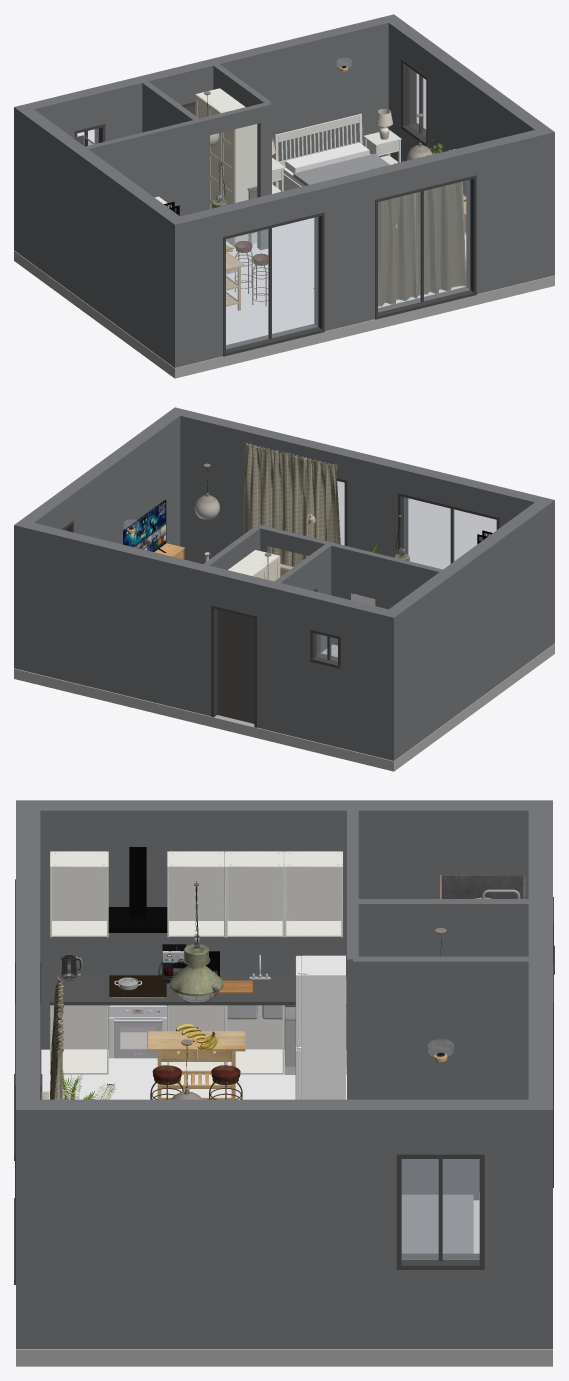
The model's file is loft35_dark_furnished.glb.
3 renders of one model, top to bottom at view 1: azimuth 30°, elevation 25°; view 2: azimuth 150°, elevation 25°; view 3: azimuth 270°, elevation 25°, orthographic. The views are drawn at different scales.
Visible parts, largest first — view 1: Ext_W, Ext_N.005, Ext_S.004, Frame.010, Frame.004, haggveckmal_zasony_zacieniajace_1_para_20569029.34, Ext_S, Ext_S.002, y32, Floor_Studio, Ext_E, Slab (+27 smaller); view 2: Ext_N.005, Ext_W, Ext_E, Ext_N, Ext_S.004, Ext_N.003, haggveckmal_zasony_zacieniajace_1_para_20569029.34, Slab, Ext_S.002, y32, Frame.004, EntranceDoor (+16 smaller); view 3: Ext_E, Ext_W, x36, Ext_E.003, Ext_N.005, Slab, Ext_S.004, Frame.025, fridge.18, Ext_E.001, Floor_Studio, kitchen_wall_cabinet.08 (+34 smaller).
Part boxes in pixels (x1,y1,x2,y2): Ext_W: [21, 109, 179, 362]; Ext_N.005: [196, 14, 400, 190]; Ext_S.004: [469, 127, 554, 294]; Frame.010: [378, 180, 470, 312]; Frame.004: [226, 217, 318, 348]; haggveckmal_zasony_zacieniajace_1_para_20569029.34: [370, 149, 466, 306]; Ext_S: [167, 207, 222, 367]; Ext_S.002: [317, 170, 374, 331]; y32: [85, 117, 209, 216]; Floor_Studio: [226, 234, 466, 344]; Ext_E: [428, 48, 547, 152]; Slab: [14, 250, 554, 378]; Ext_N.005: [14, 520, 218, 716]; Ext_W: [389, 502, 547, 755]; Ext_E: [61, 412, 180, 546]; Ext_N: [341, 599, 401, 760]; Ext_S.004: [168, 407, 252, 562]; Ext_N.003: [257, 579, 317, 740]; haggveckmal_zasony_zacieniajace_1_para_20569029.34: [243, 442, 340, 566]; Slab: [14, 643, 554, 771]; Ext_S.002: [347, 451, 404, 557]; y32: [318, 540, 442, 645]; Frame.004: [404, 497, 496, 569]; EntranceDoor: [217, 609, 254, 723]; Ext_E: [40, 1099, 396, 1348]; Ext_W: [40, 800, 528, 1049]; x36: [353, 956, 528, 1200]; Ext_E.003: [484, 1099, 528, 1348]; Ext_N.005: [528, 949, 552, 1348]; Slab: [16, 1349, 552, 1366]; Ext_S.004: [16, 1046, 40, 1348]; Frame.025: [402, 1159, 479, 1259]; fridge.18: [295, 955, 345, 1099]; Ext_E.001: [396, 1270, 484, 1348]; Floor_Studio: [41, 1049, 346, 1099]; kitchen_wall_cabinet.08: [50, 851, 108, 937].
Bounding box in the file's own units: 7.52 × 2.9 × 5.54.
121 materials, 61 textured.
